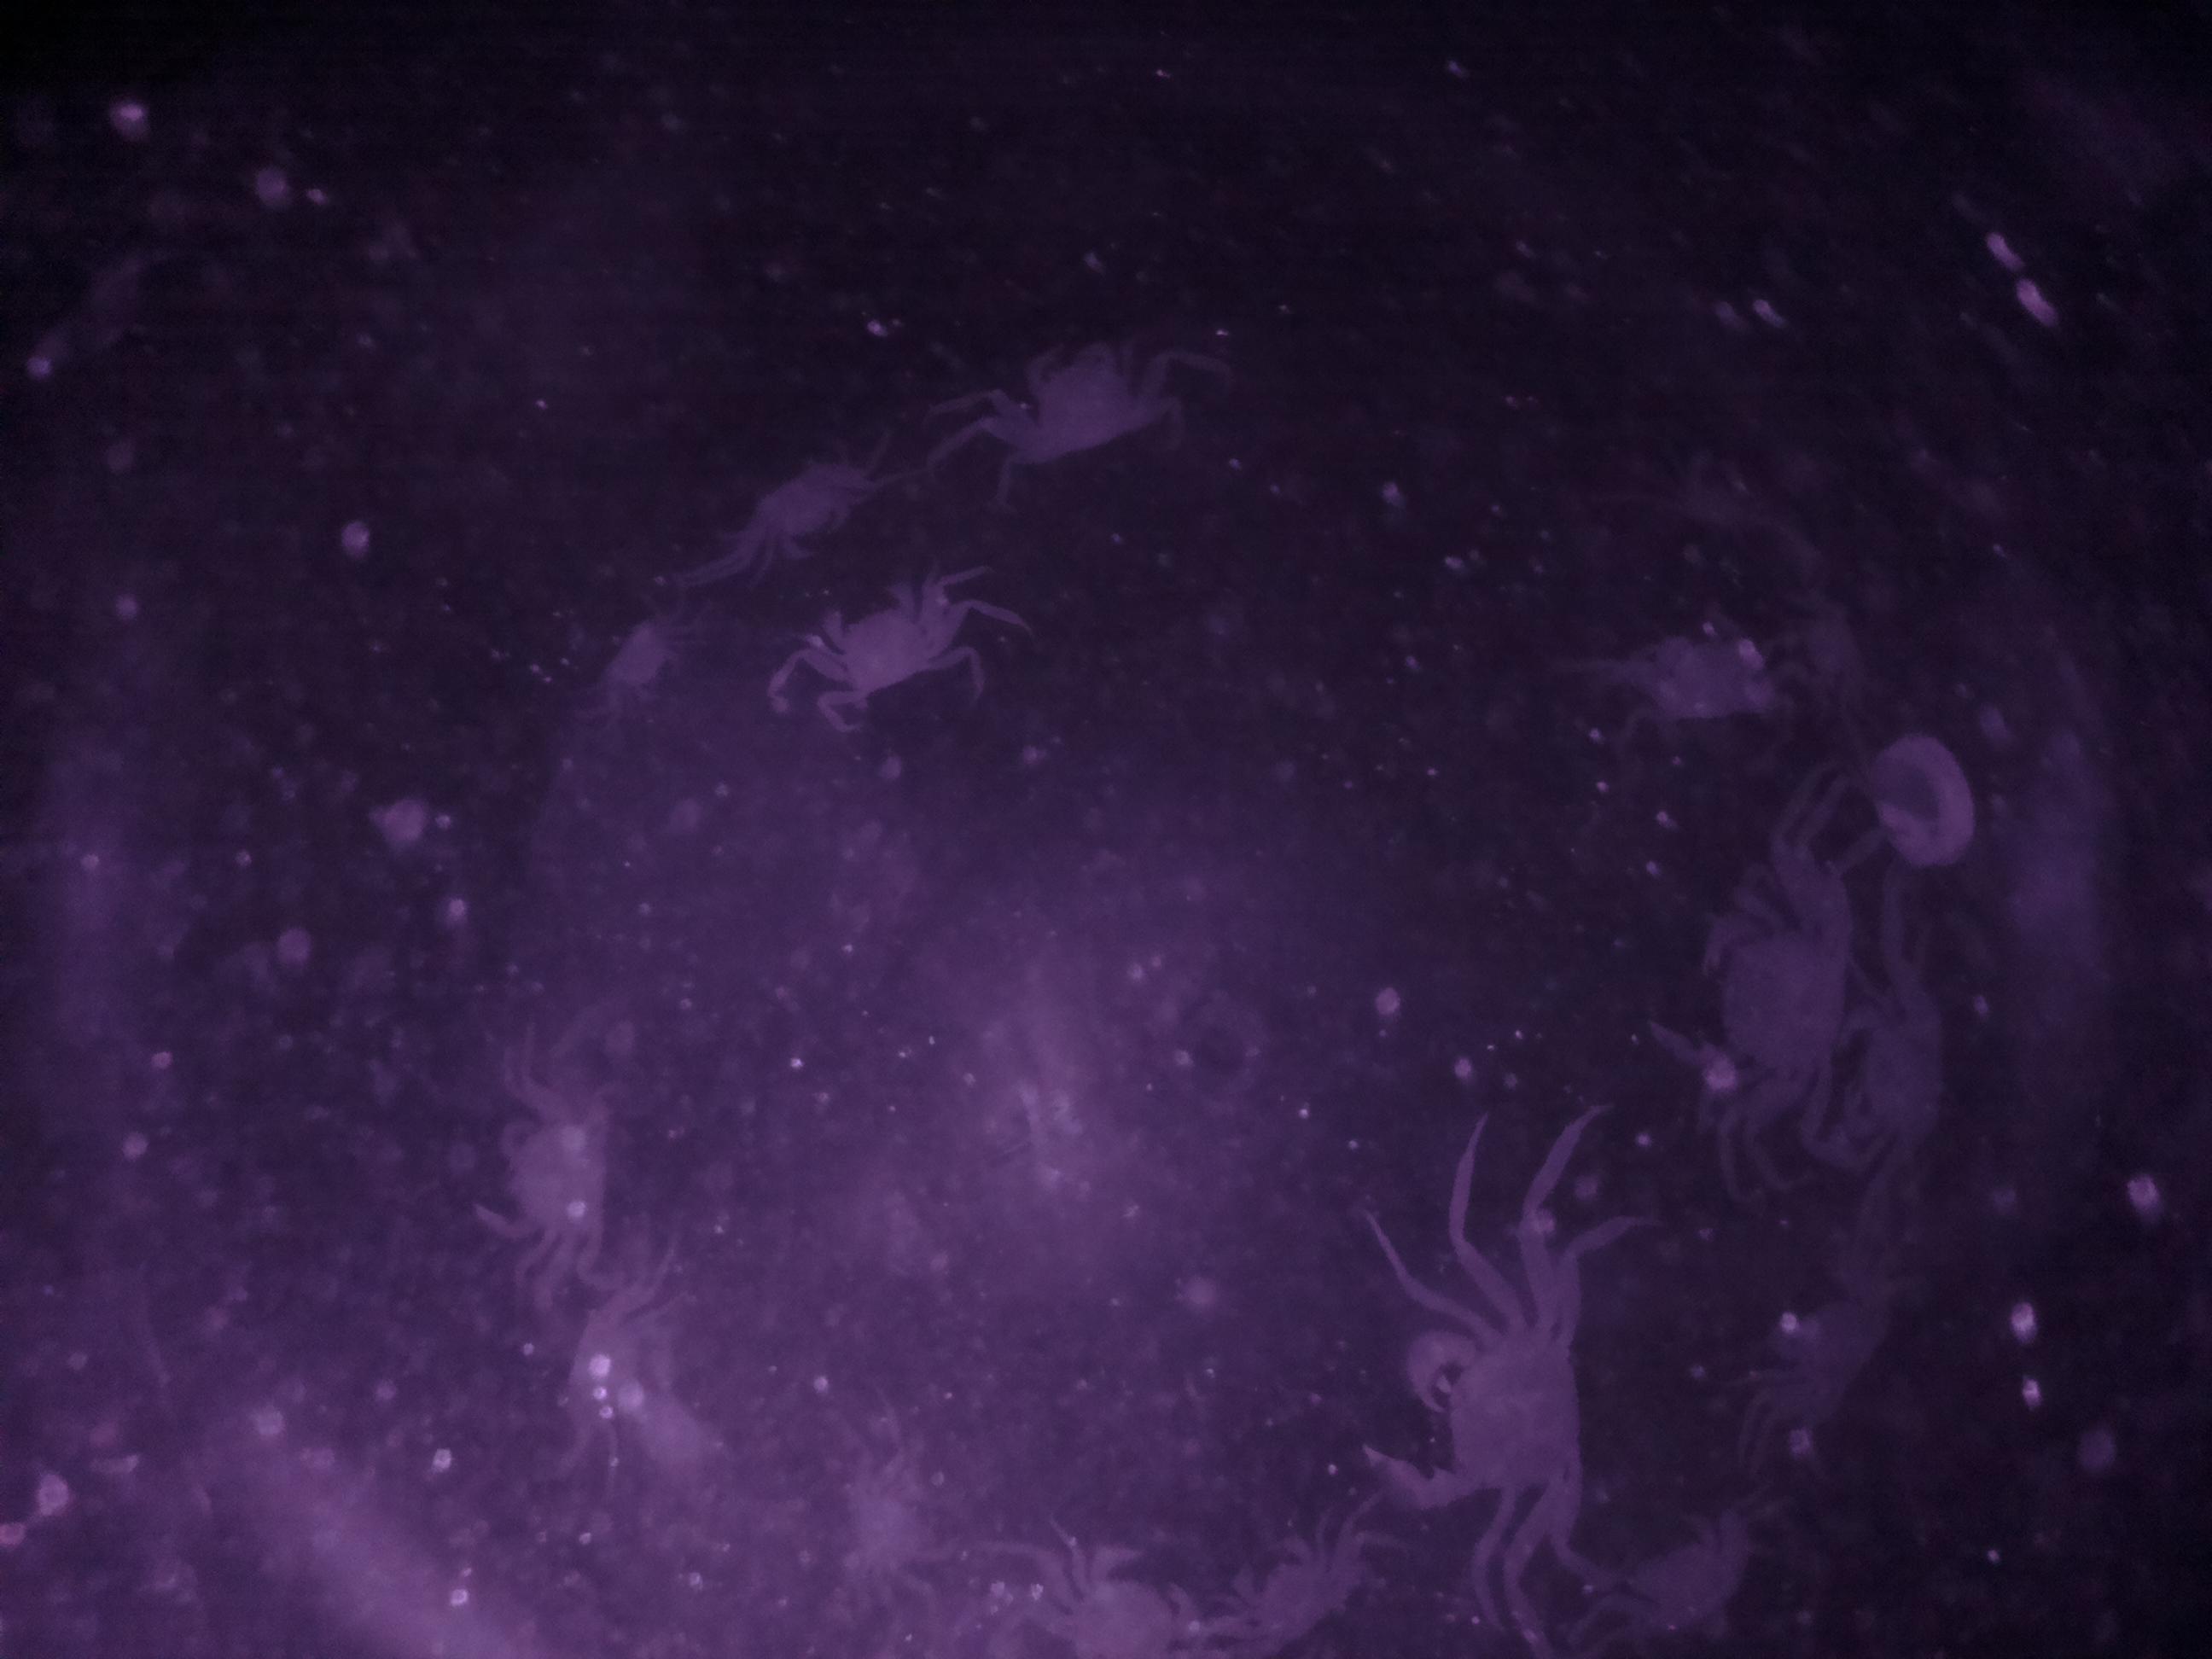Crab: (1336, 1309, 1609, 1528), (1632, 890, 1872, 1105), (472, 1087, 617, 1260), (801, 577, 951, 713)
